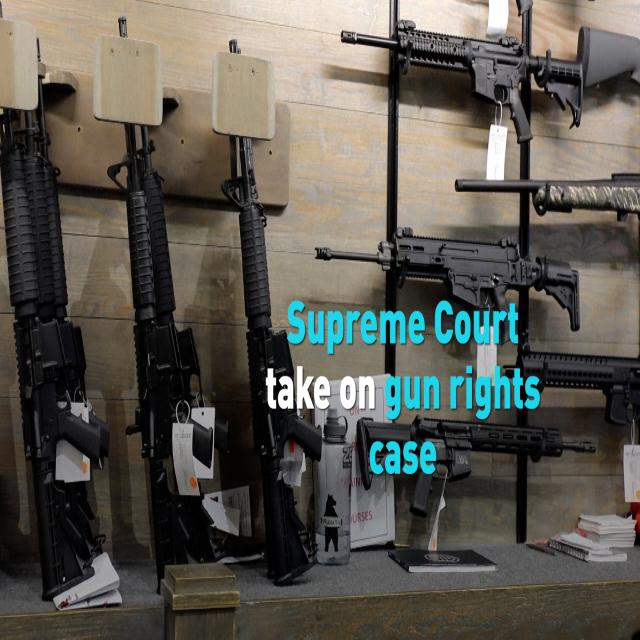Rifle: (0, 111, 107, 603), (221, 140, 321, 587), (122, 124, 213, 593), (341, 20, 582, 143), (315, 238, 581, 332), (356, 418, 595, 518)
